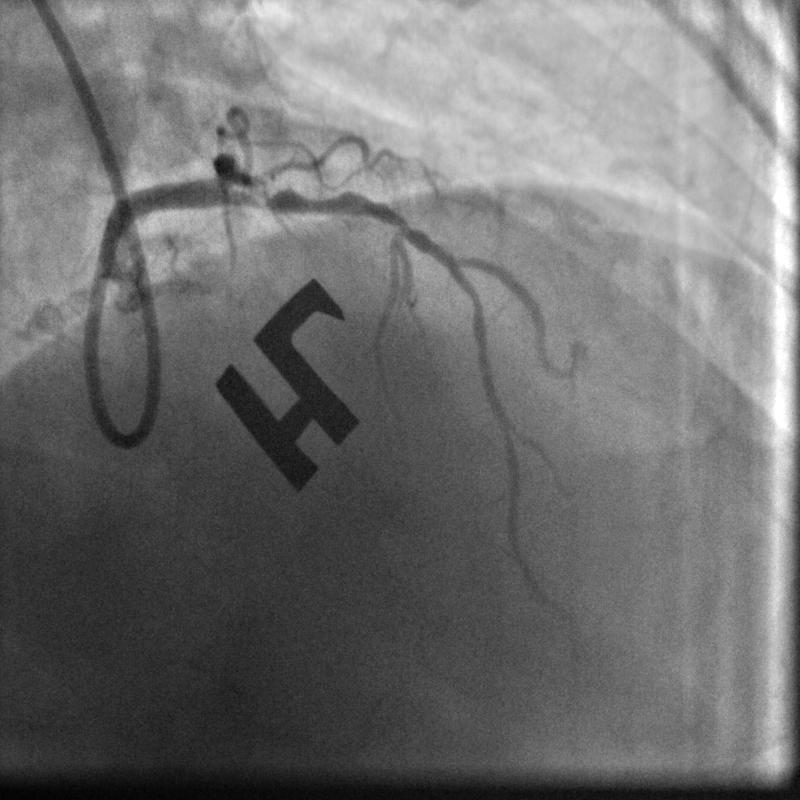Stenosis: (244, 178, 352, 211)
